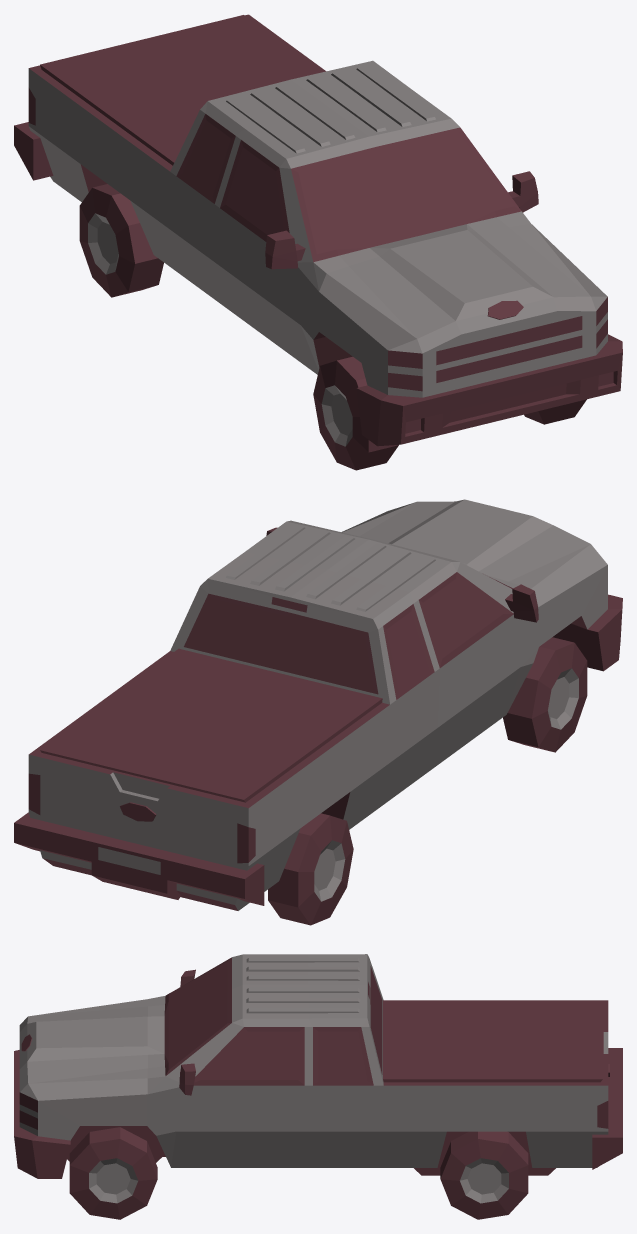
File: car-pickup-modern-covered.fbx
3 views of the same model, one above another, from view 1: azimuth 30°, elevation 25°; view 2: azimuth 150°, elevation 25°; view 3: azimuth 270°, elevation 25° (orthographic). The views are drawn at different scales.
Visible parts, largest first — view 1: car-pickup-modern-covered-base, car-pickup-modern-covered-wheel_BR, car-pickup-modern-covered-wheel_FR, car-pickup-modern-covered-wheel_FL; view 2: car-pickup-modern-covered-base, car-pickup-modern-covered-wheel_FR, car-pickup-modern-covered-wheel_BR; view 3: car-pickup-modern-covered-base, car-pickup-modern-covered-wheel_FL, car-pickup-modern-covered-wheel_BL.
Boxes of the visible parts, bbox=[...] form: car-pickup-modern-covered-base: bbox=[14, 14, 622, 446]; car-pickup-modern-covered-wheel_BR: bbox=[79, 184, 163, 297]; car-pickup-modern-covered-wheel_FR: bbox=[313, 356, 398, 470]; car-pickup-modern-covered-wheel_FL: bbox=[524, 399, 586, 424]; car-pickup-modern-covered-base: bbox=[14, 499, 622, 910]; car-pickup-modern-covered-wheel_FR: bbox=[503, 637, 587, 752]; car-pickup-modern-covered-wheel_BR: bbox=[268, 813, 353, 925]; car-pickup-modern-covered-base: bbox=[14, 954, 622, 1178]; car-pickup-modern-covered-wheel_FL: bbox=[69, 1127, 157, 1219]; car-pickup-modern-covered-wheel_BL: bbox=[440, 1131, 528, 1219].
Size of the model in its own units: 2.32 by 2 by 5.7.
